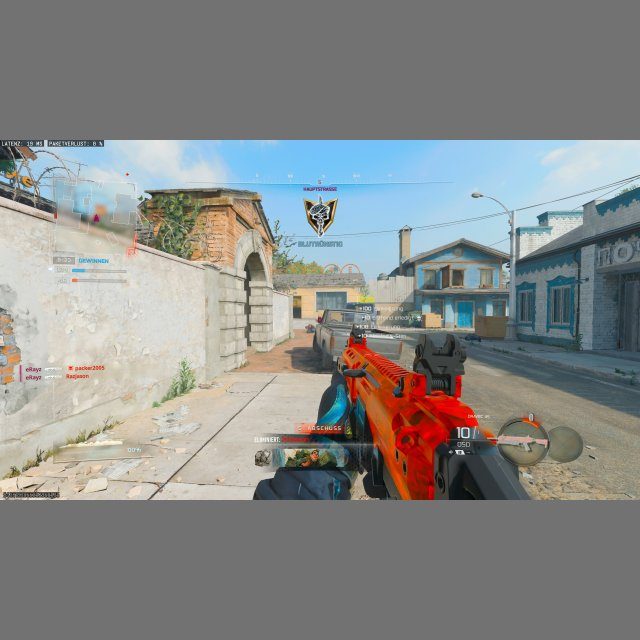player: (348, 325, 367, 347)
